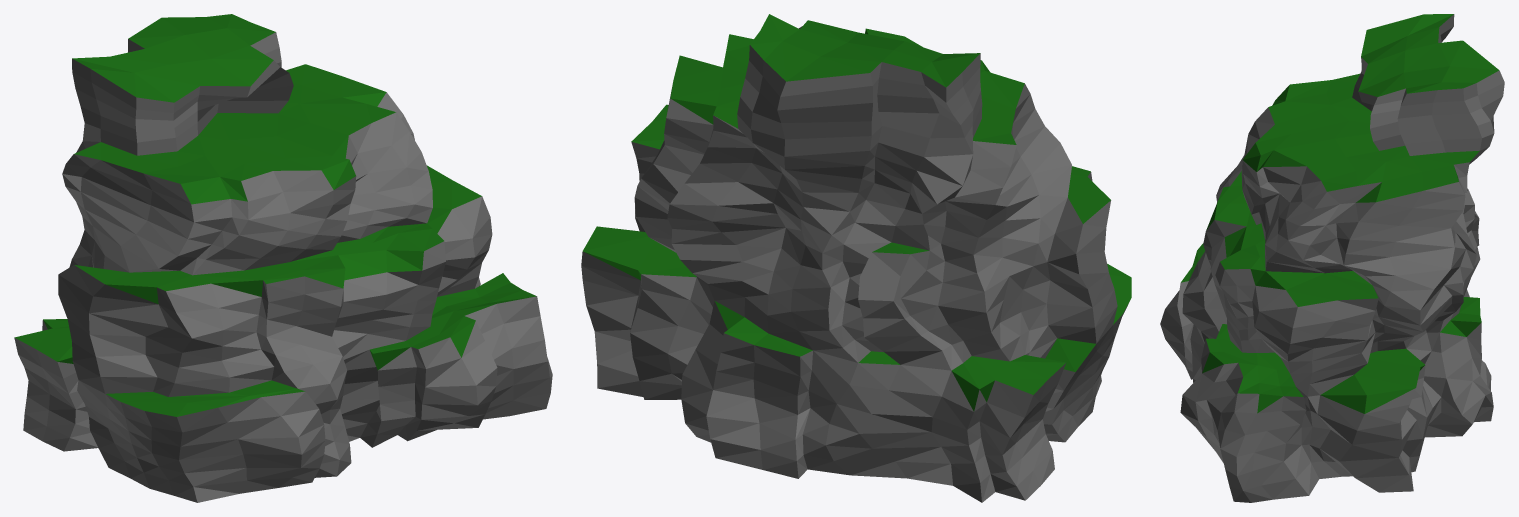
Rendered from Wallrock2.fbx.
3 views of the same model, side by side, from view 1: azimuth 30°, elevation 25°; view 2: azimuth 150°, elevation 25°; view 3: azimuth 270°, elevation 25° (orthographic). The views are drawn at different scales.
Parts seen in each view (by area): view 1: Plane.002, Plane.003; view 2: Plane.002, Plane.003; view 3: Plane.002, Plane.003.
Part boxes in pixels (box(x1,y1,x2,y2)): Plane.002: box(14, 32, 552, 502); Plane.003: box(14, 14, 536, 416); Plane.002: box(581, 26, 1129, 502); Plane.003: box(583, 14, 1131, 411); Plane.002: box(1160, 14, 1504, 502); Plane.003: box(1181, 14, 1499, 413).
Bounding box in the file's own units: 3022 × 2400 × 2252.
